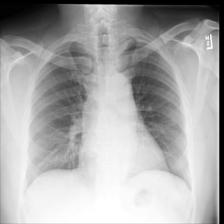normal: (24, 33, 192, 192)
